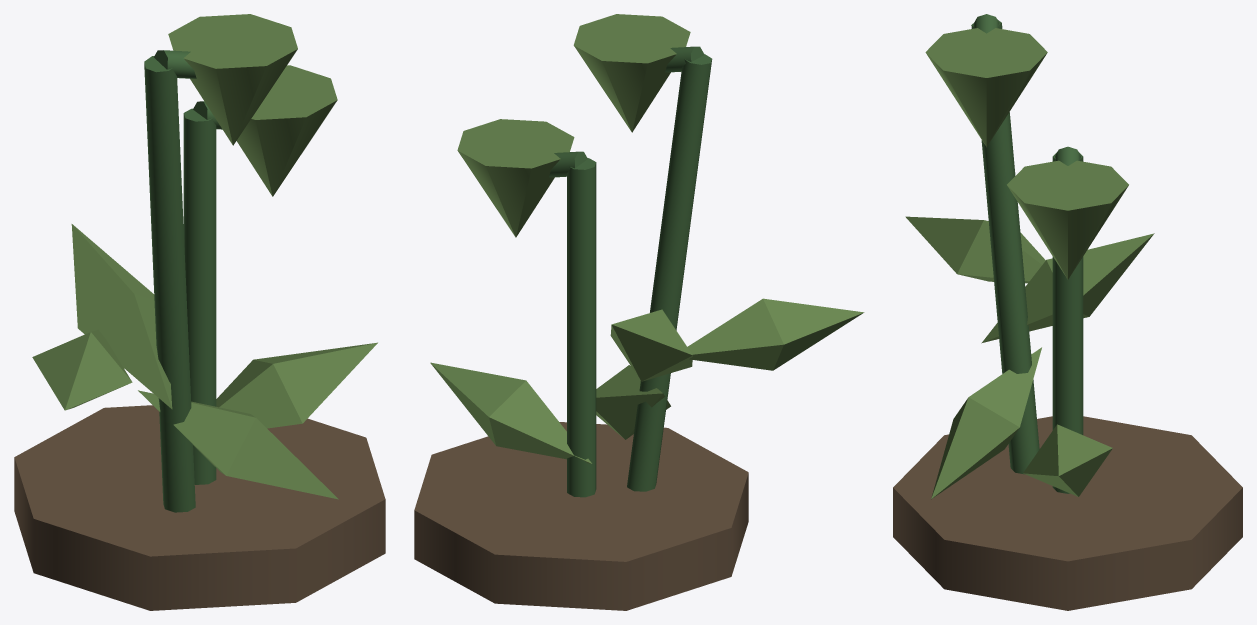
The model's file is plant-bluebell-2.glb.
3 renders of one model, left to right at view 1: azimuth 30°, elevation 25°; view 2: azimuth 150°, elevation 25°; view 3: azimuth 270°, elevation 25°, orthographic. The views are drawn at different scales.
Parts seen in each view (by area): view 1: plant-bluebell-2-visual; view 2: plant-bluebell-2-visual; view 3: plant-bluebell-2-visual.
Boxes of the visible parts, x1,y1,x2,y2 form: plant-bluebell-2-visual: [14, 14, 385, 610]; plant-bluebell-2-visual: [414, 14, 864, 610]; plant-bluebell-2-visual: [893, 14, 1242, 610].
Bounding box in the file's own units: 0.3828 × 0.4915 × 0.32.
